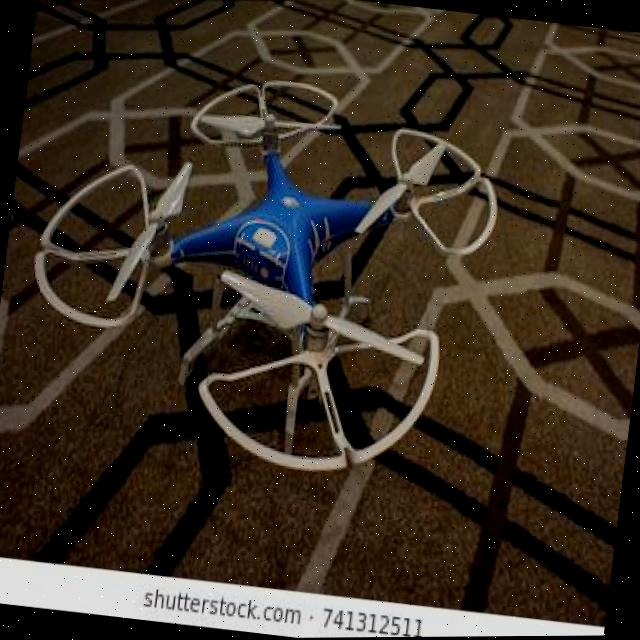drone: (0, 0, 538, 521)
